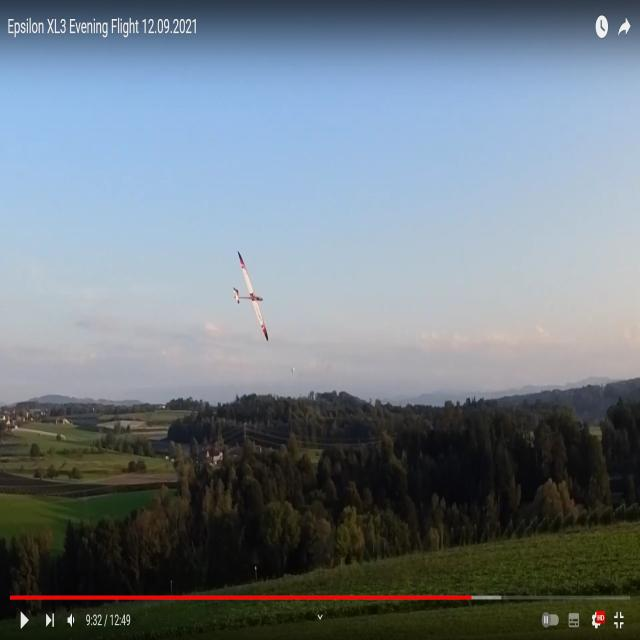iha: (230, 282, 269, 312)
